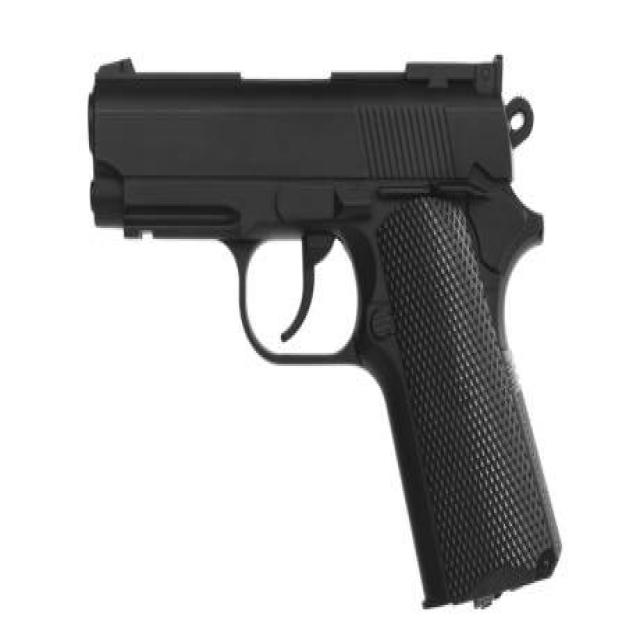pistol: (83, 43, 570, 621)
